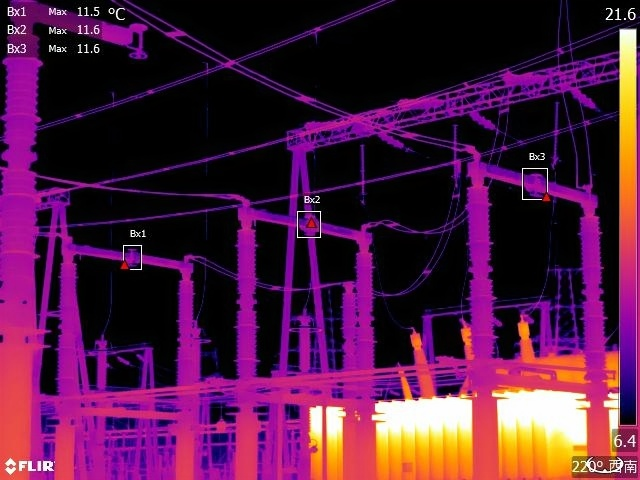insulator: (391, 91, 448, 112), (503, 66, 549, 91), (564, 88, 599, 109), (467, 110, 500, 132), (376, 129, 407, 152)
lightning arrester: (292, 312, 320, 373), (88, 332, 114, 388)
post insulator: (1, 33, 47, 324), (462, 183, 499, 354), (578, 212, 611, 386), (232, 223, 260, 375), (54, 259, 77, 395), (353, 247, 377, 369), (175, 273, 198, 388), (339, 291, 357, 399)
switch: (1, 1, 153, 67), (231, 190, 380, 254), (463, 150, 596, 215), (62, 235, 197, 281)
transformer: (302, 383, 627, 480)
tube: (411, 324, 435, 398), (512, 313, 538, 377), (463, 318, 472, 378)
